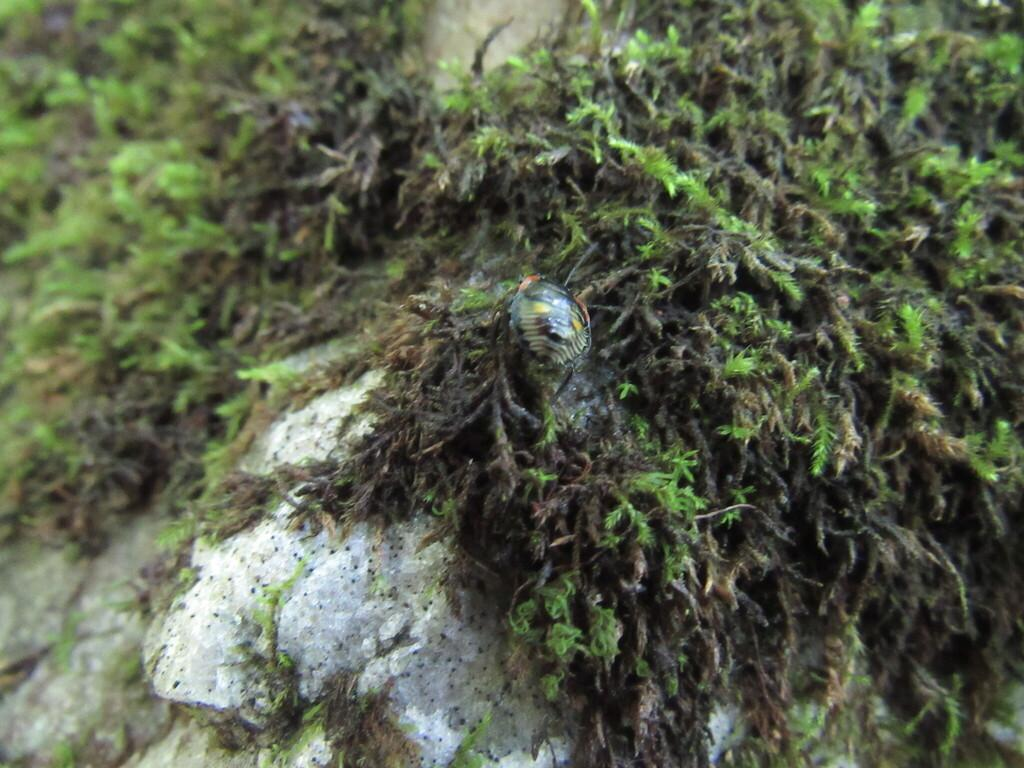stink_bugs: (475, 221, 626, 419)
